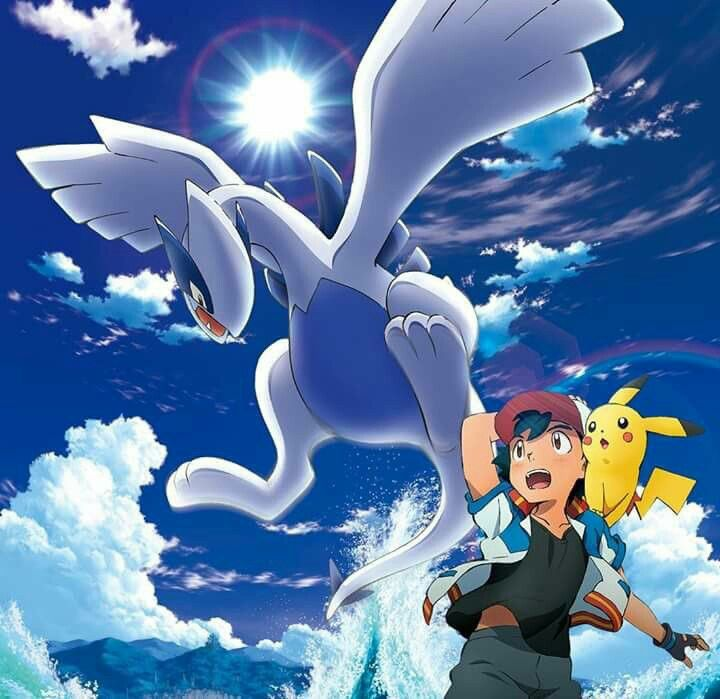lugia: (154, 178, 327, 347)
